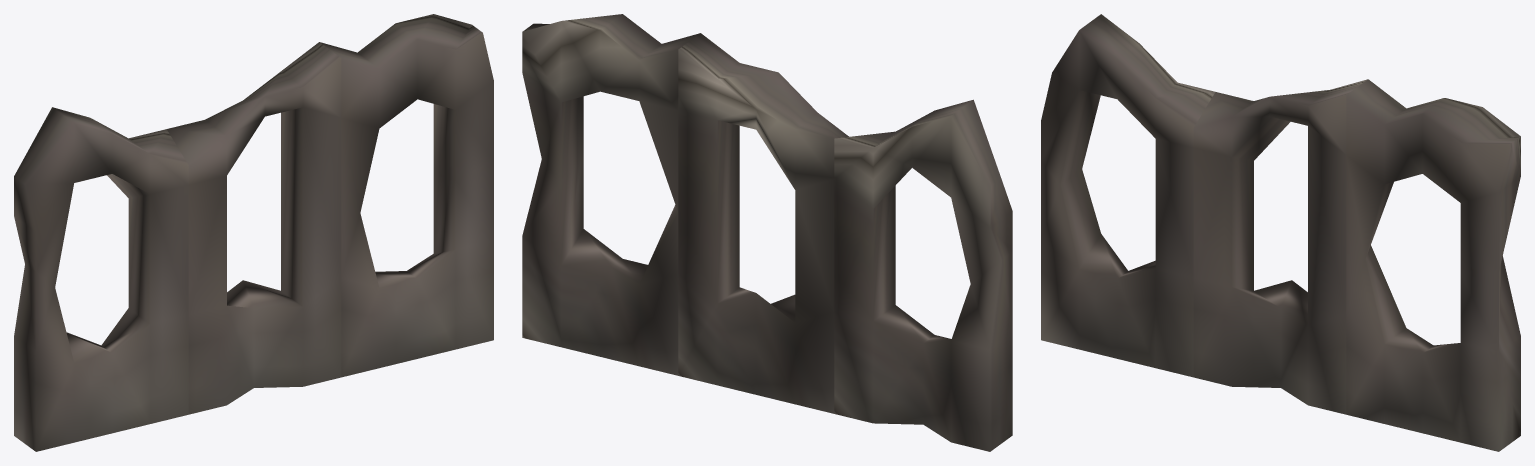
File: ruin9.glb
The picture shows the model from 3 angles, left to right: view 1: azimuth 30°, elevation 25°; view 2: azimuth 150°, elevation 25°; view 3: azimuth 330°, elevation 25°; orthographic projection. The views are drawn at different scales.
Visible parts, largest first — view 1: ruin9; view 2: ruin9; view 3: ruin9.
Part boxes in pixels (bbox=[...]): ruin9: bbox=[14, 14, 493, 451]; ruin9: bbox=[522, 14, 1012, 451]; ruin9: bbox=[1041, 14, 1520, 451].
Bounding box in the file's own units: 12 × 8 × 1.
Materials: 1 (1 with a texture image).
